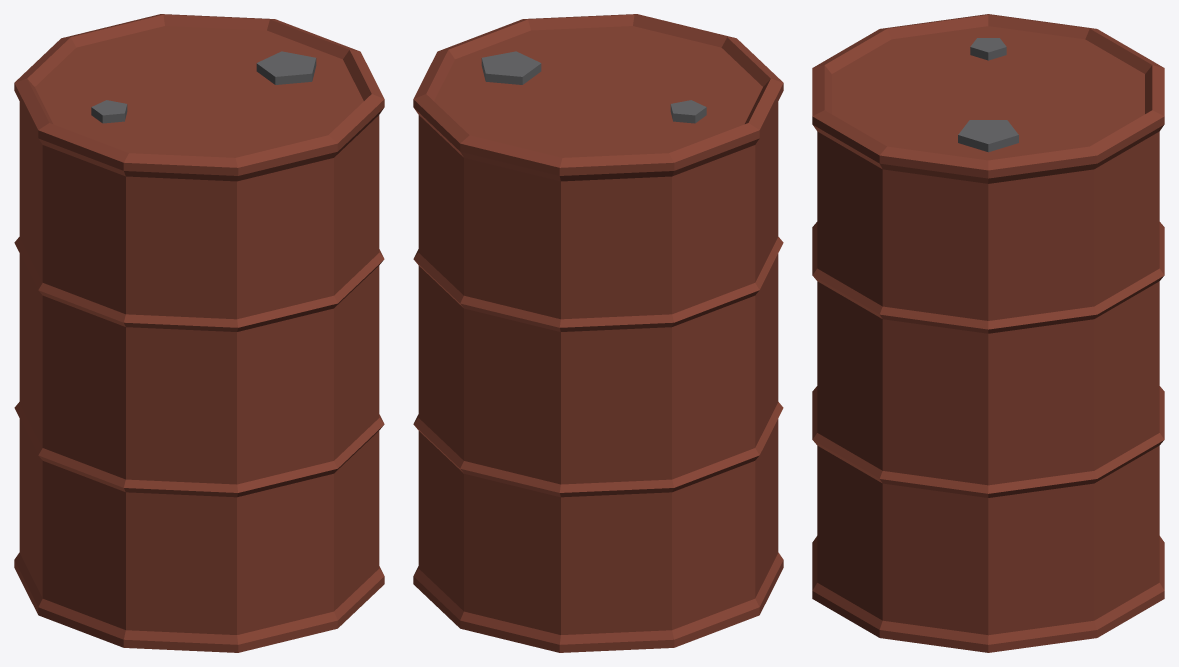
Rendered from drum-closed.glb.
The picture shows the model from 3 angles, left to right: view 1: azimuth 30°, elevation 25°; view 2: azimuth 150°, elevation 25°; view 3: azimuth 270°, elevation 25°; orthographic projection.
Parts seen in each view (by area): view 1: DrumClosed; view 2: DrumClosed; view 3: DrumClosed.
Boxes of the visible parts, box(x1,y1,x2,y2) form: DrumClosed: box(14, 14, 384, 652); DrumClosed: box(413, 14, 783, 652); DrumClosed: box(812, 14, 1164, 652).
Bounding box in the file's own units: 0.58 × 0.85 × 0.5516.
